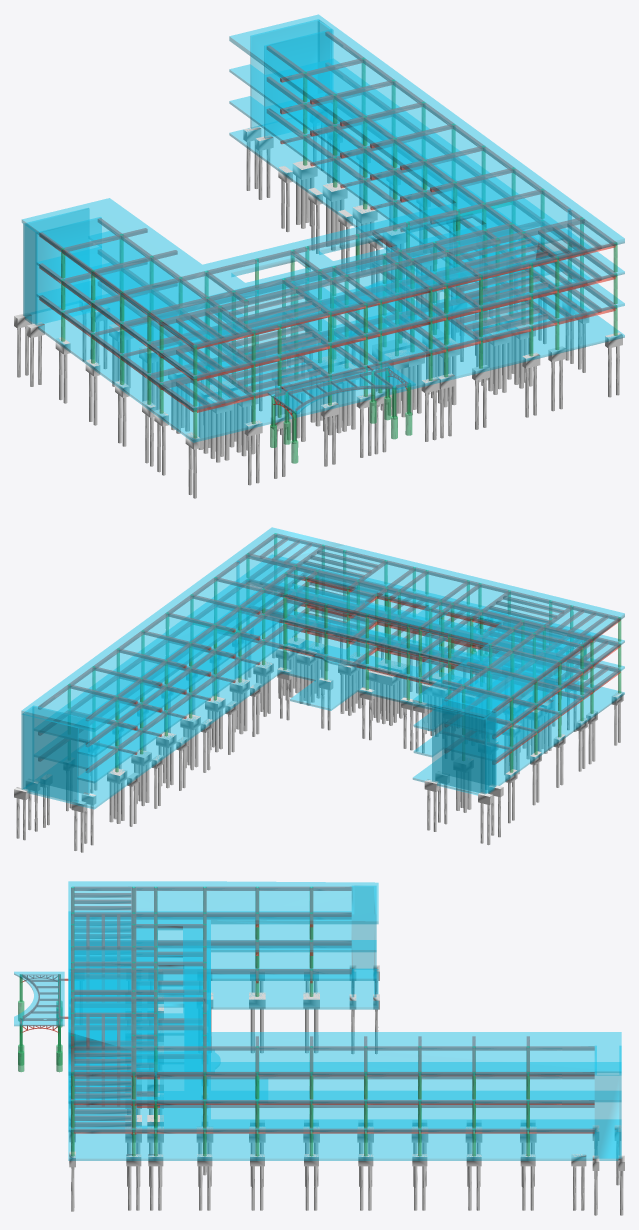
3 renders of one model, top to bottom at view 1: azimuth 30°, elevation 25°; view 2: azimuth 150°, elevation 25°; view 3: azimuth 270°, elevation 25°, orthographic. The views are drawn at different scales.
Visible parts, largest first — view 1: Level4_Floors, Level3_Beams, Level1_Foundations, Level2_Columns; view 2: Level4_Floors, Level3_Beams, Level1_Foundations, Level2_Columns; view 3: Level4_Floors, Level3_Beams, Level1_Foundations, Level2_Columns.
Boxes of the visible parts, x1,y1,x2,y2 form: Level4_Floors: (21, 14, 624, 442); Level3_Beams: (39, 31, 616, 419); Level1_Foundations: (14, 119, 622, 498); Level2_Columns: (61, 58, 617, 463); Level4_Floors: (21, 527, 624, 809); Level3_Beams: (38, 534, 620, 772); Level1_Foundations: (14, 609, 623, 852); Level2_Columns: (68, 533, 621, 772); Level4_Floors: (14, 881, 621, 1160); Level3_Beams: (20, 887, 594, 1134); Level1_Foundations: (69, 965, 624, 1215); Level2_Columns: (18, 887, 529, 1156).
Size of the model in its own units: 55.81 by 18.75 by 73.34.
